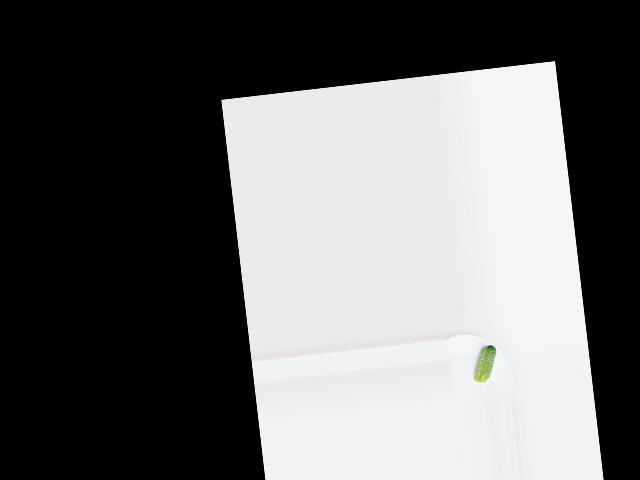cucumber: (470, 345, 499, 383)
